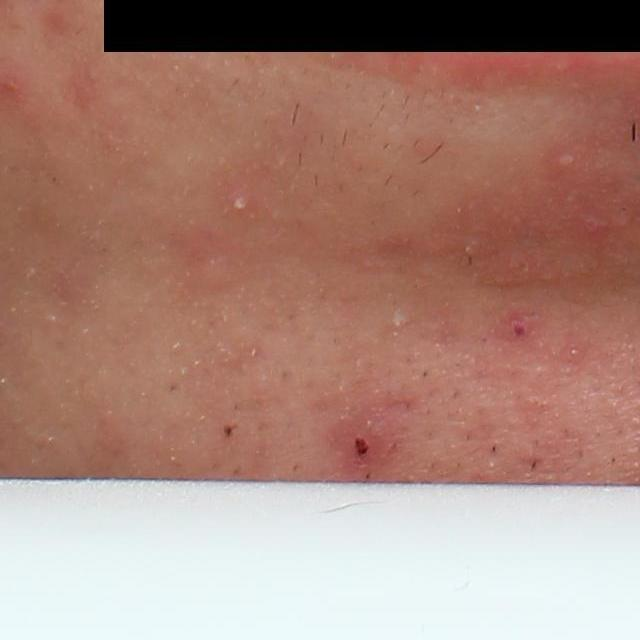comedo: (390, 312, 408, 330)
papule: (338, 425, 389, 474), (500, 311, 534, 338)
pustule: (225, 186, 253, 216), (551, 147, 579, 173)
